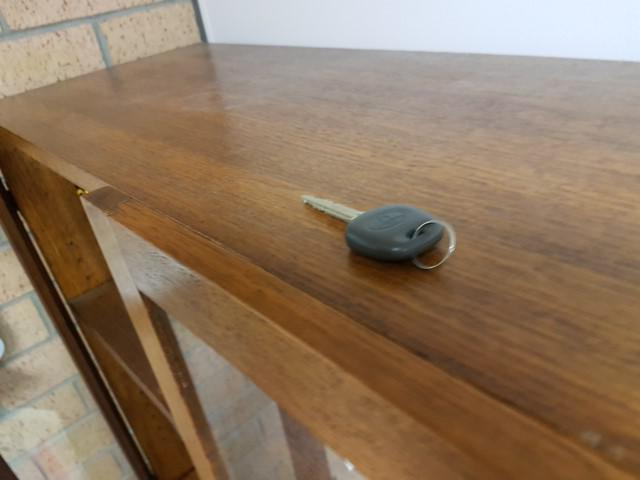key: (303, 194, 444, 262)
